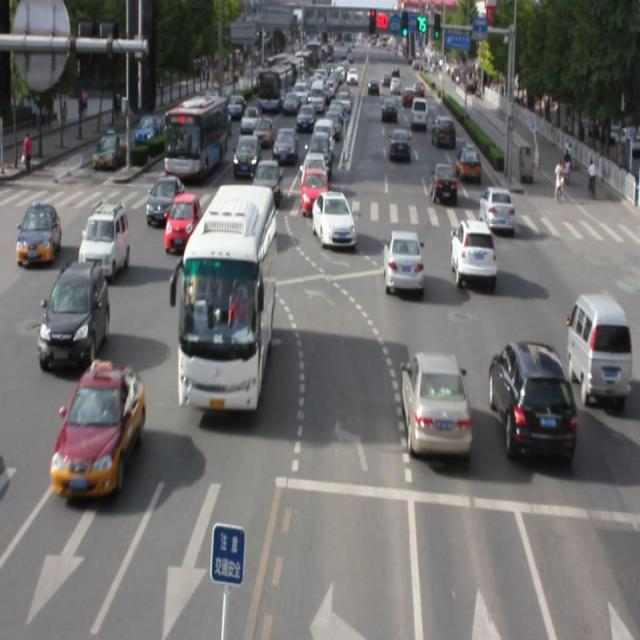car: (50, 364, 145, 500), (488, 339, 574, 463), (38, 260, 111, 369), (401, 351, 469, 455), (79, 200, 130, 278), (450, 219, 496, 286), (382, 228, 423, 296), (311, 196, 355, 253), (165, 193, 198, 254), (147, 177, 183, 228), (477, 185, 513, 232)
truck: (566, 291, 628, 405)
van: (178, 186, 274, 410)
